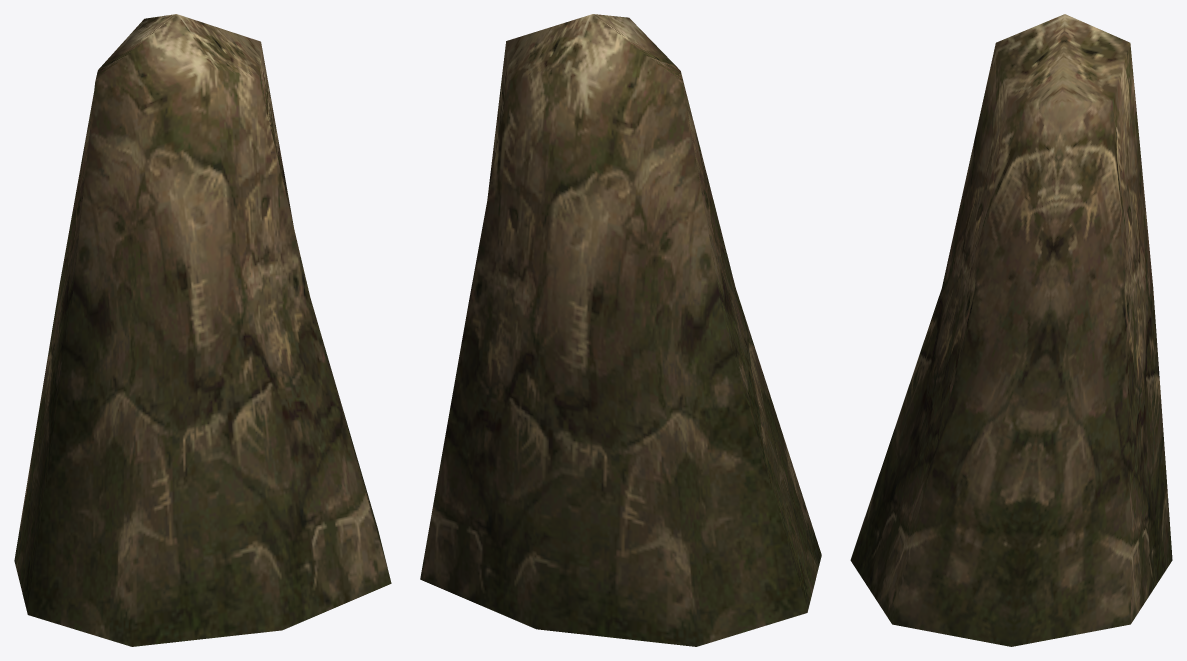
The model's file is zshh_shitou_03.FBX.
The picture shows the model from 3 angles, left to right: view 1: azimuth 30°, elevation 25°; view 2: azimuth 150°, elevation 25°; view 3: azimuth 270°, elevation 25°; orthographic projection. The views are drawn at different scales.
Visible parts, largest first — view 1: zshh_shitou_03; view 2: zshh_shitou_03; view 3: zshh_shitou_03.
Boxes of the visible parts, x1=… form: zshh_shitou_03: x1=14, y1=14, x2=391, y2=646; zshh_shitou_03: x1=420, y1=14, x2=821, y2=646; zshh_shitou_03: x1=850, y1=14, x2=1172, y2=646.
Bounding box in the file's own units: 218 × 171 × 320.
